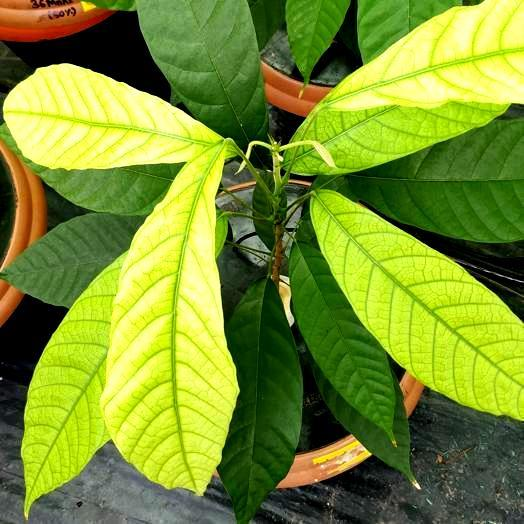Iron: (311, 189, 523, 419), (101, 145, 238, 494), (293, 0, 523, 174), (21, 252, 126, 517), (4, 64, 221, 168)
